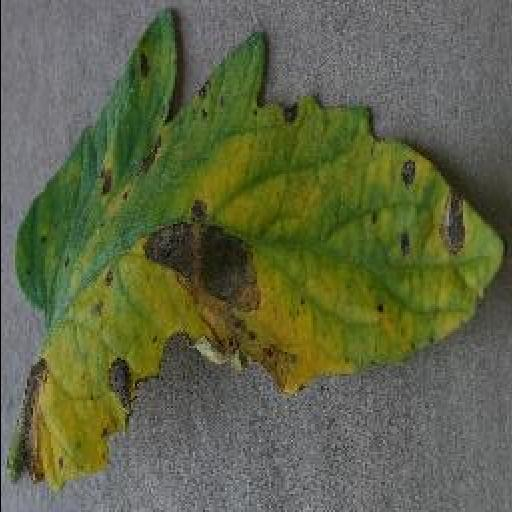disease_tomato: (8, 14, 506, 499)
